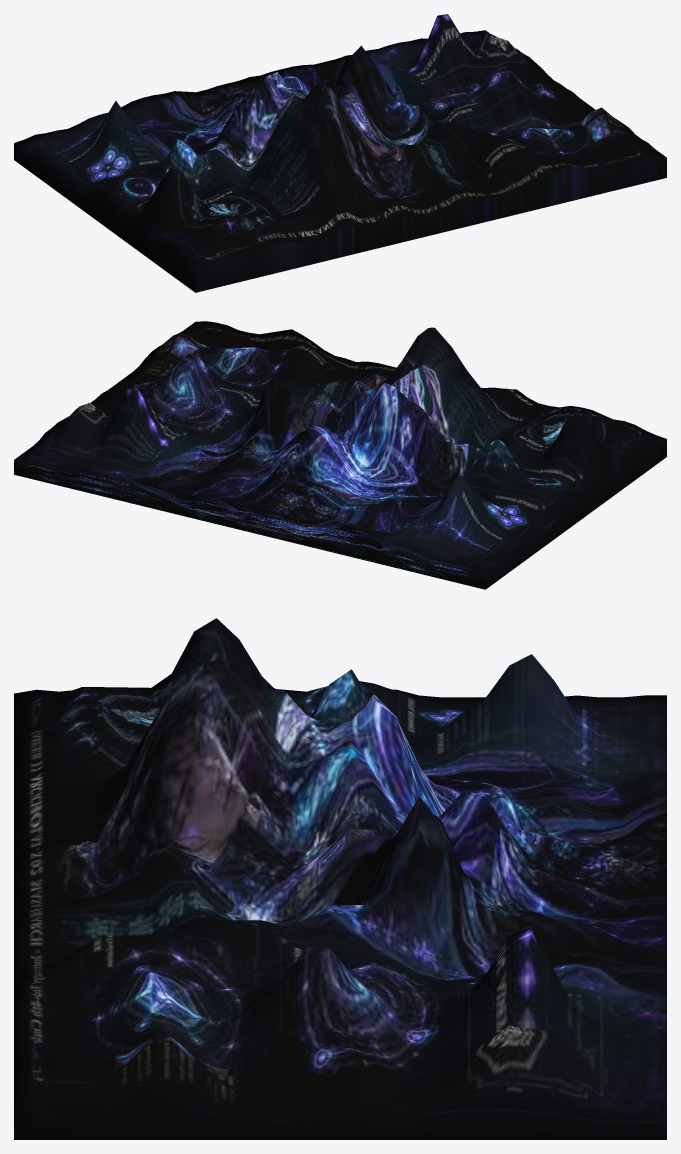
The model's file is CAREER_11_VFX_02_Research.glb.
3 renders of one model, top to bottom at view 1: azimuth 30°, elevation 25°; view 2: azimuth 150°, elevation 25°; view 3: azimuth 270°, elevation 25°, orthographic. The views are drawn at different scales.
Parts seen in each view (by area): view 1: CAREER_11_VFX_02_Research; view 2: CAREER_11_VFX_02_Research; view 3: CAREER_11_VFX_02_Research.
Boxes of the visible parts, <box> form: CAREER_11_VFX_02_Research: <box>14,14,666,292</box>; CAREER_11_VFX_02_Research: <box>14,321,666,589</box>; CAREER_11_VFX_02_Research: <box>14,618,666,1139</box>.
Bounding box in the file's own units: 2 × 0.51 × 1.33.
Materials: 1 (1 with a texture image).
